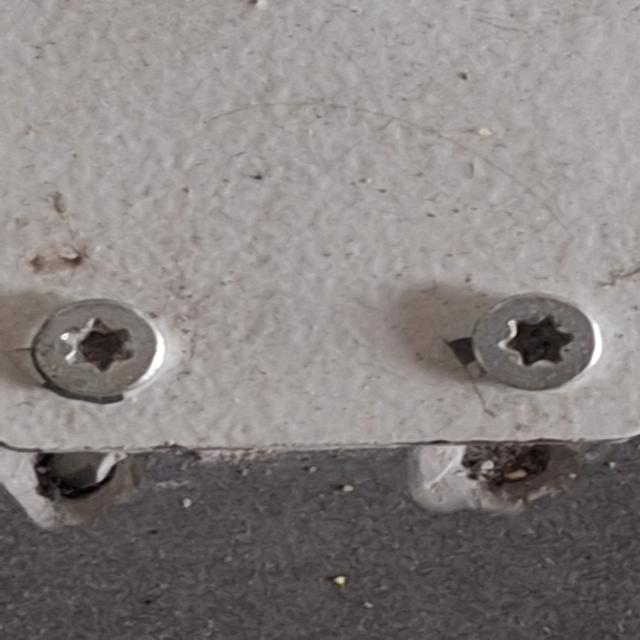Torx: (468, 297, 602, 399), (33, 300, 159, 398)
